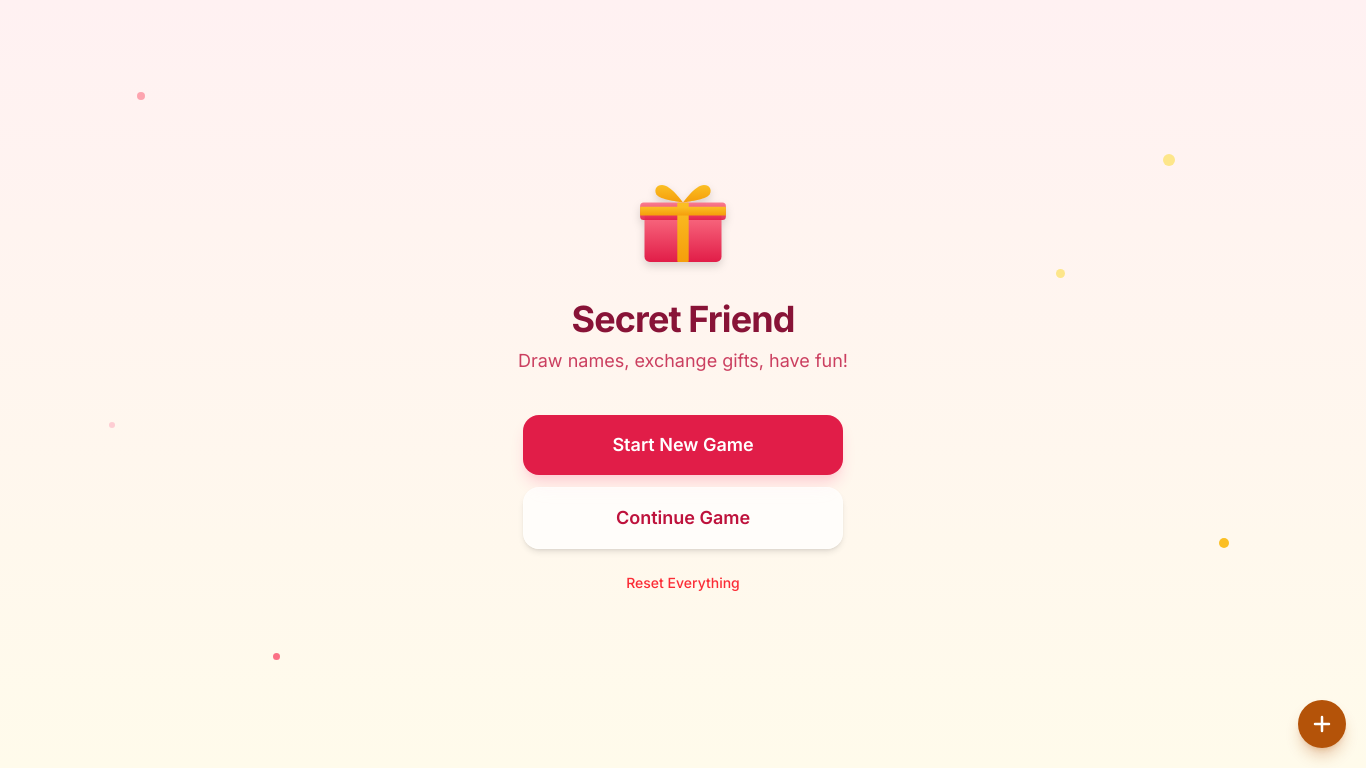
Test: App › resets saved game on confirm reset
Click the button "Reset Everything".
click(683, 583)  # box [523, 561, 843, 605]
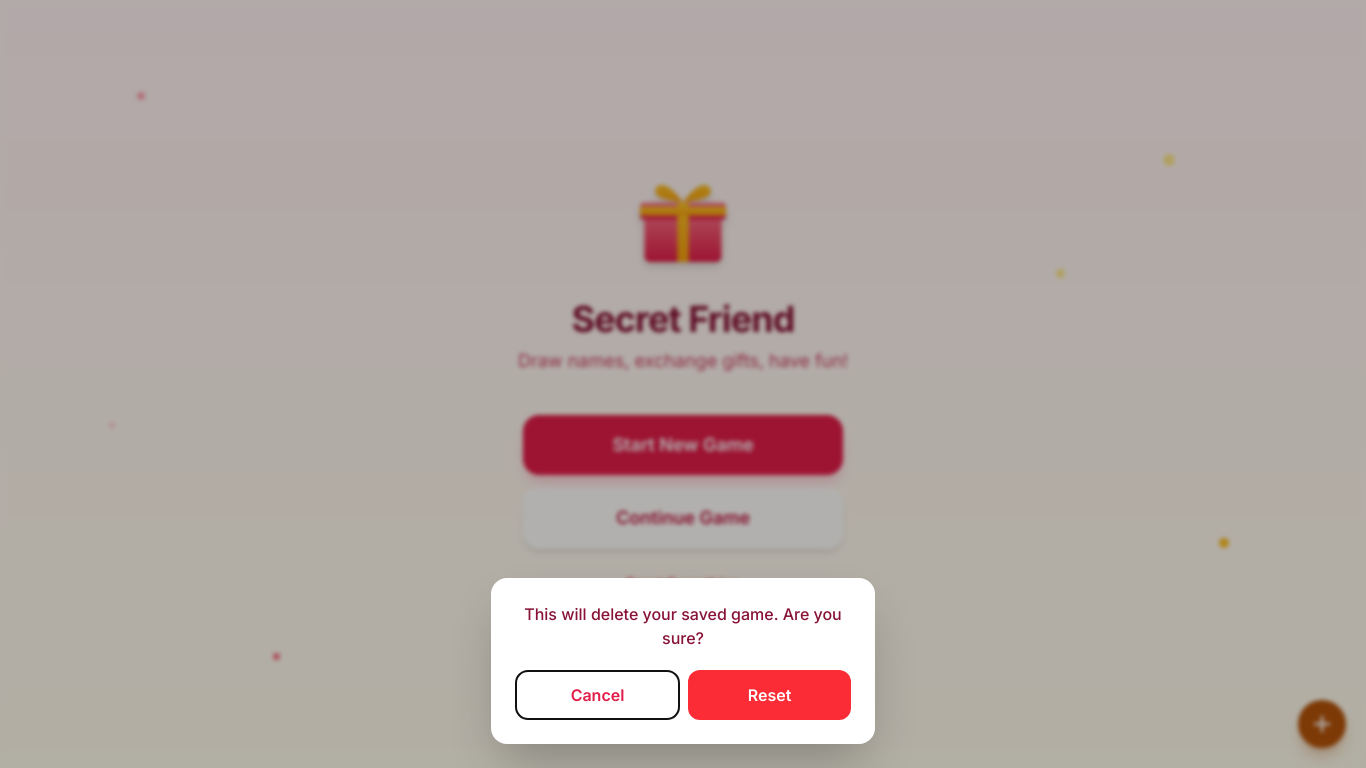
Note: Confirm dialog appears
Click the button "Reset".
click(770, 695)  # box [688, 670, 851, 720]
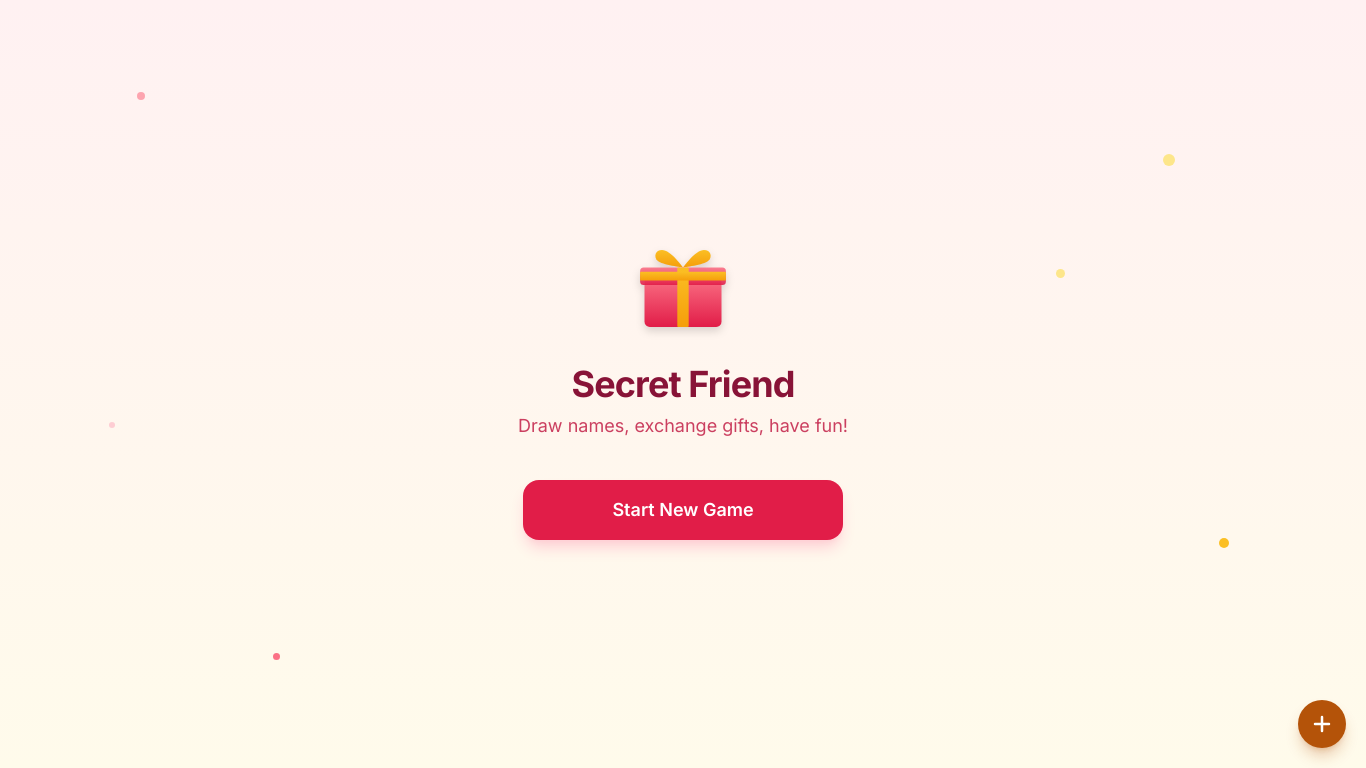
expect the button "Start New Game" is shown: met, box [523, 480, 843, 540]
expect the button "Continue Game" is gone: met
